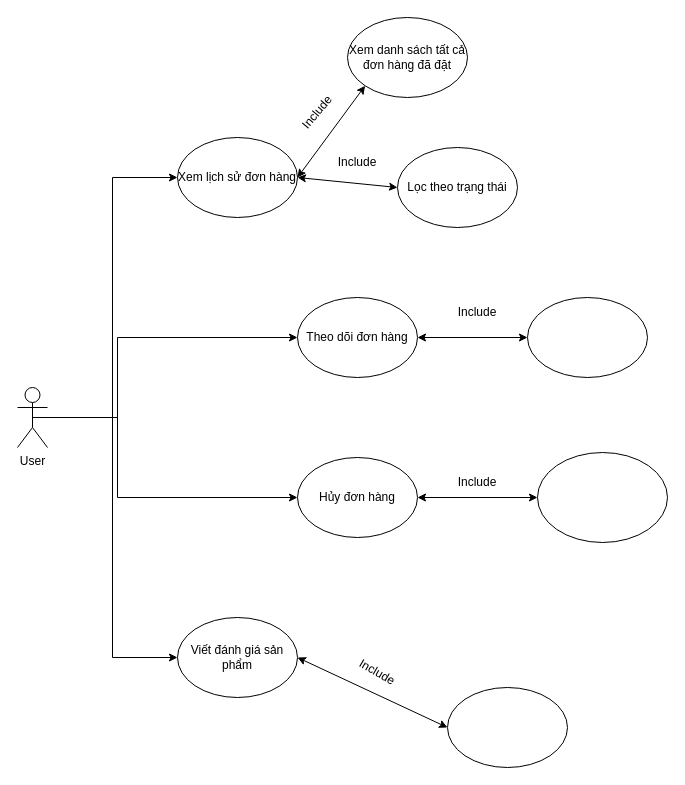
Image size: 685x785. Some labels were removed from this diagram. Here are the shapes that lost their labels. From the top down, the centre of each, then its label:
(x=587, y=337): Xem timeline chi tiết của 1 đơn hàng cụ thể
(x=602, y=497): Cho phép hủy đơn hàng chỉ những đơn hàng chưa xác nhận
(x=507, y=727): Đánh giá theo độ hài lòng
